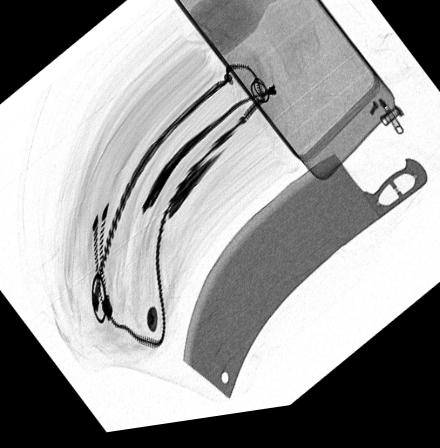Knife: (181, 161, 426, 406)
